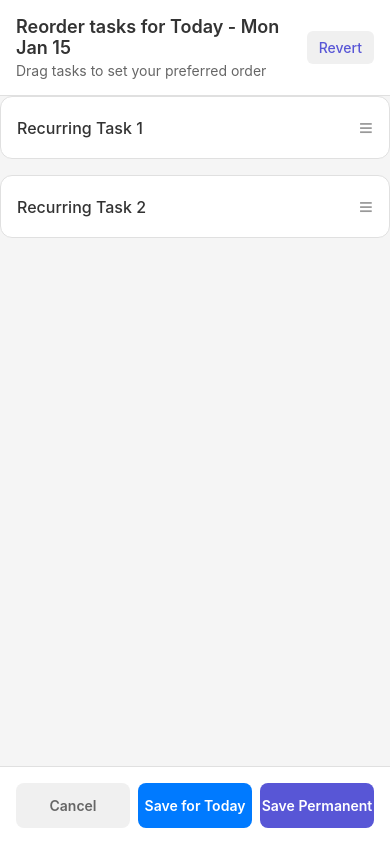
Scenario: ReorderTasksScreen › closes modal when Cancel is pressed
The width and height of the screenshot is (390, 844).
Open modal
Click the text "Save Permanent".
click(317, 806)  # box x1=262 y1=797 x2=372 y2=814
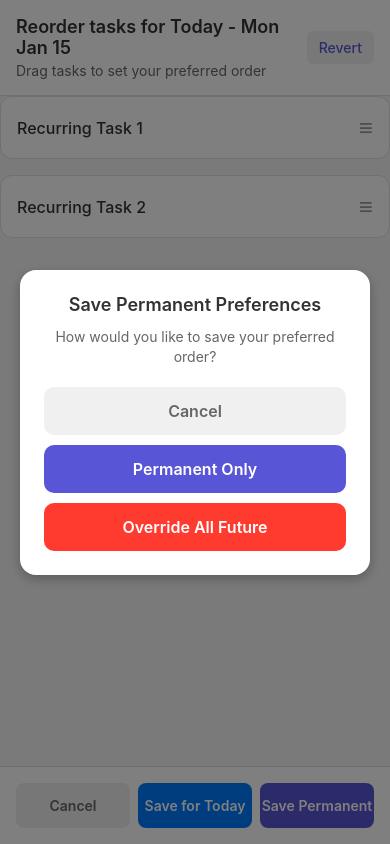
Check: the text "Save Permanent Preferences" is shown, box x1=69 y1=294 x2=321 y2=314
Find the Cancel in the modal (last one)
Click the text "Cancel".
click(195, 410)  # box x1=168 y1=400 x2=222 y2=420
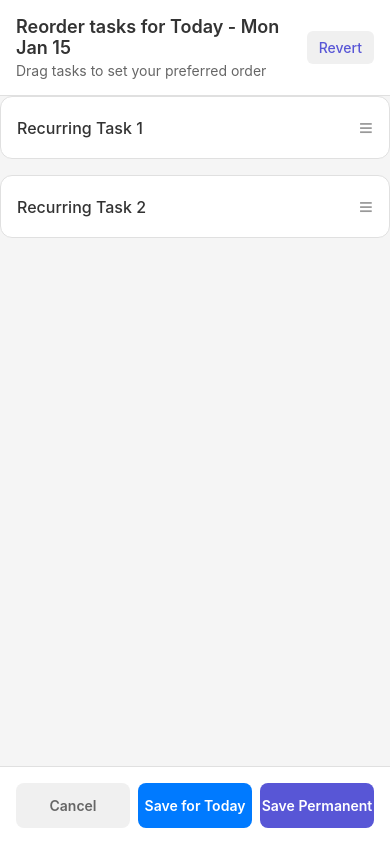
Check: the text "Save Permanent Preferences" is gone
